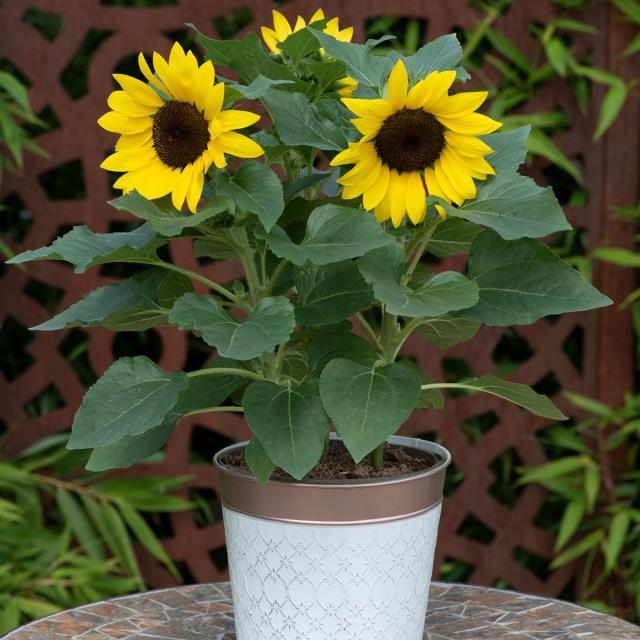sunflower: (328, 58, 502, 228), (96, 40, 264, 214), (260, 7, 358, 98)
